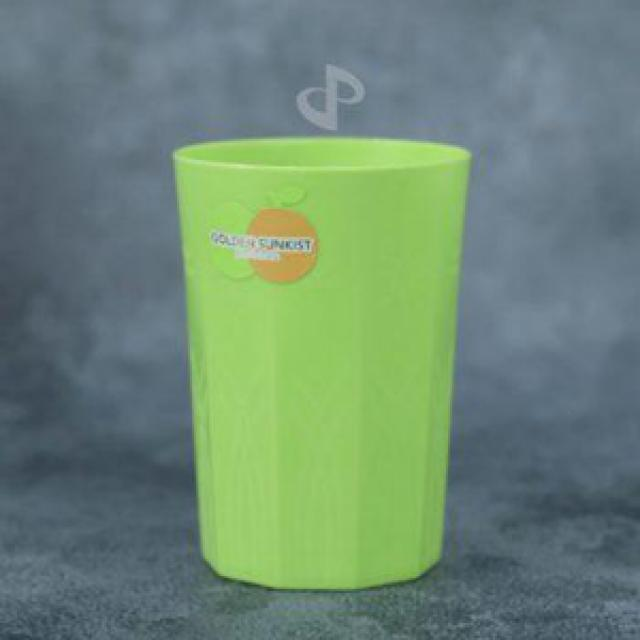plastic cup: (162, 119, 478, 602)
